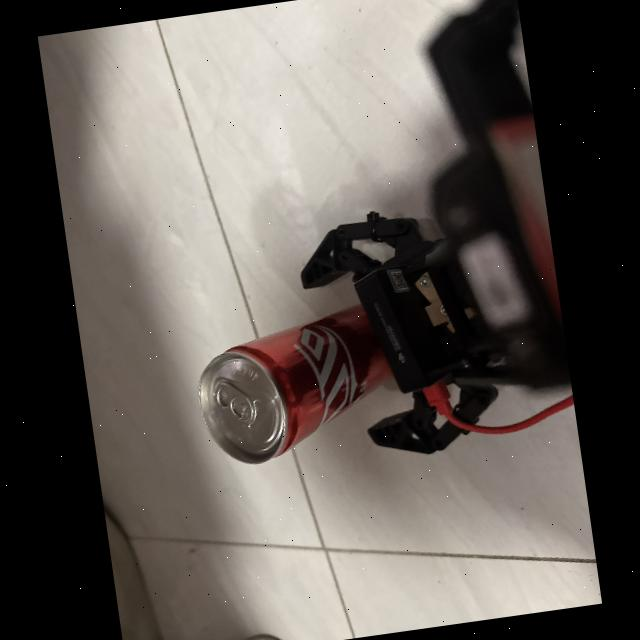Cola: (175, 271, 398, 479)
